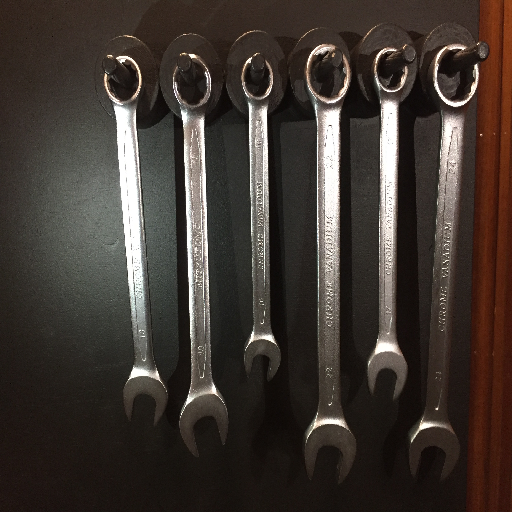bottom: (301, 414, 355, 487), (406, 416, 462, 483), (178, 388, 229, 460), (122, 368, 169, 426), (366, 341, 409, 401), (241, 330, 282, 384)
top: (425, 41, 484, 112), (304, 41, 351, 110), (170, 52, 214, 113), (102, 53, 145, 109), (370, 45, 412, 97), (239, 54, 276, 104)
